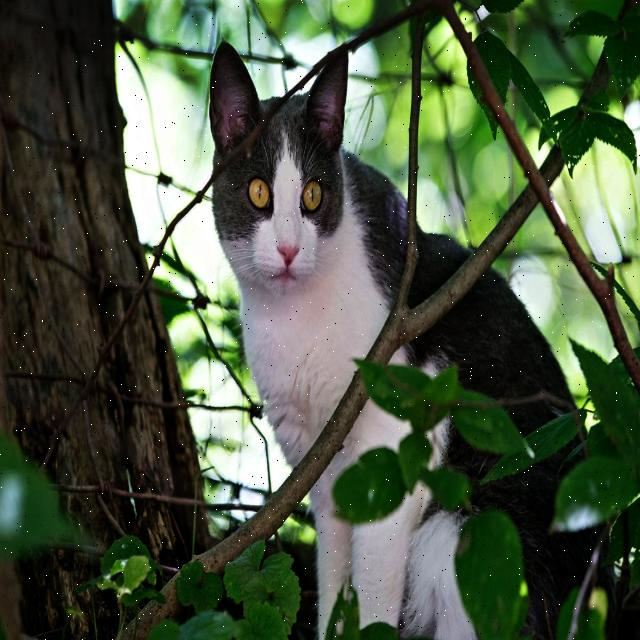cat: (212, 55, 405, 465), (310, 403, 475, 639), (431, 420, 595, 635), (395, 272, 571, 434), (210, 43, 269, 163), (409, 231, 469, 306)
